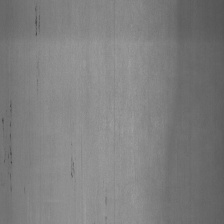inclusion: (1, 98, 14, 192), (31, 3, 41, 88), (101, 178, 110, 222), (68, 145, 78, 181)
